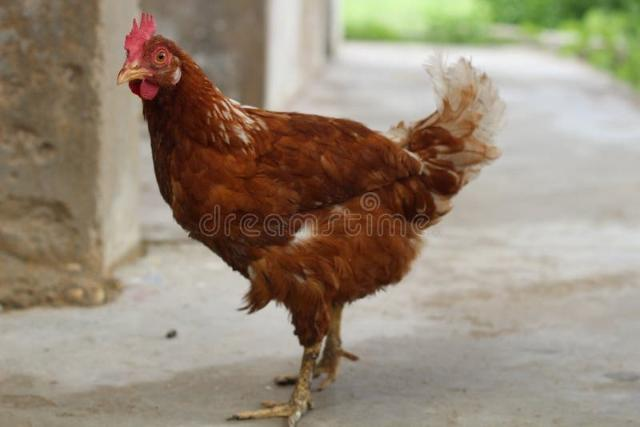Chicken: (116, 12, 506, 427)
